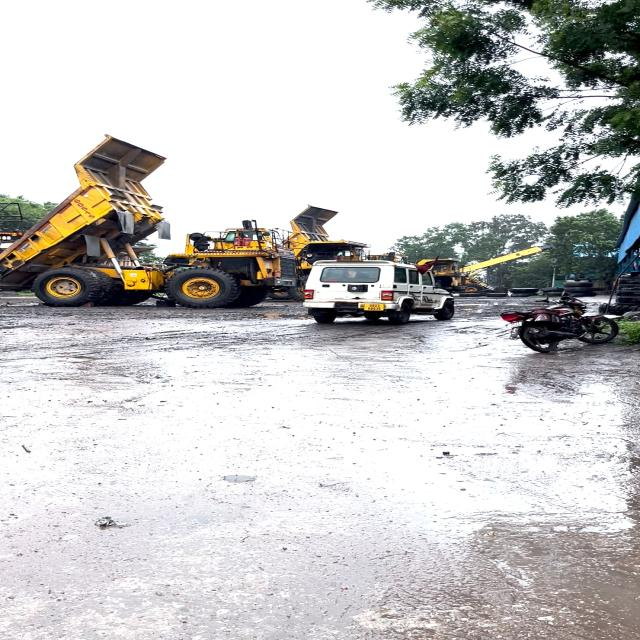dump_truck: (17, 135, 281, 308)
light_vehicle: (307, 262, 458, 323)
